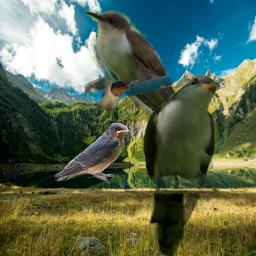Cuckoo: (83, 7, 213, 177), (142, 74, 220, 256)
Swallow: (54, 122, 131, 184), (83, 75, 130, 113)
